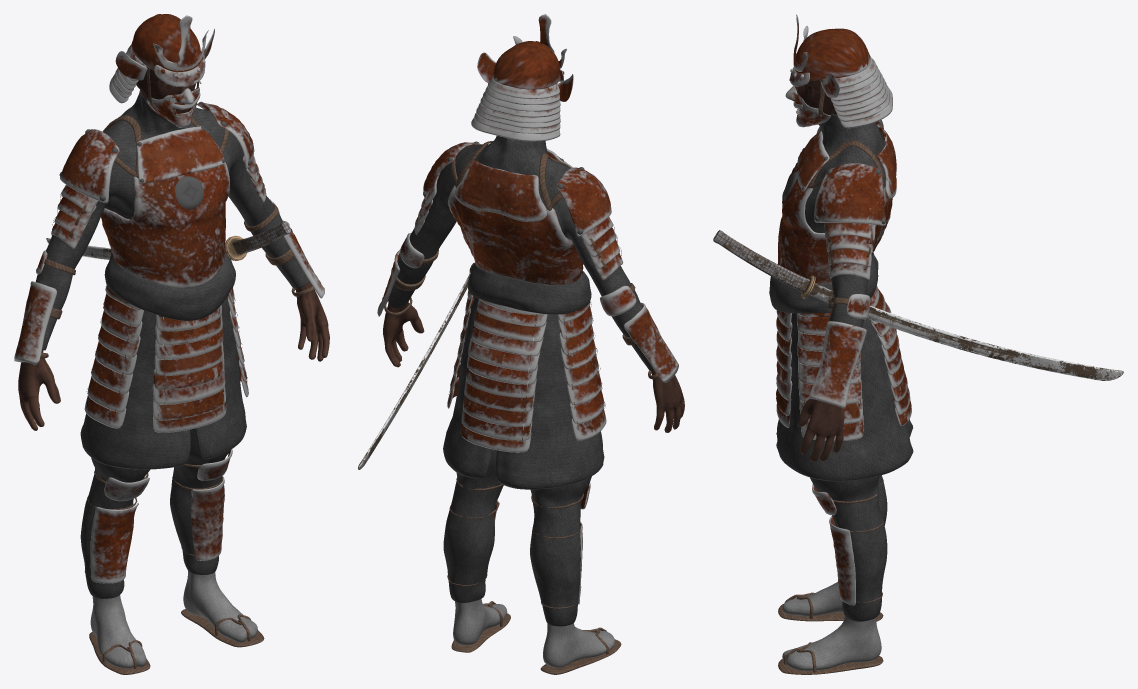
File: samurai.glb
3 views of the same model, side by side, from view 1: azimuth 30°, elevation 25°; view 2: azimuth 150°, elevation 25°; view 3: azimuth 270°, elevation 25° (orthographic). The views are drawn at different scales.
Parts seen in each view (by area): view 1: armor_V2_L:Group2, armor_shogun2:shogun1, sword_6:polySurface1; view 2: armor_V2_L:Group2, armor_shogun2:shogun1, sword_6:polySurface1; view 3: armor_V2_L:Group2, sword_6:polySurface1, armor_shogun2:shogun1.
Part boxes in pixels (x1=…): armor_V2_L:Group2: x1=14, y1=14, x2=324, y2=674; armor_shogun2:shogun1: x1=18, y1=66, x2=329, y2=430; sword_6:polySurface1: x1=46, y1=221, x2=291, y2=260; armor_V2_L:Group2: x1=377, y1=14, x2=678, y2=674; armor_shogun2:shogun1: x1=383, y1=302, x2=684, y2=432; sword_6:polySurface1: x1=358, y1=272, x2=470, y2=469; armor_V2_L:Group2: x1=769, y1=14, x2=913, y2=674; sword_6:polySurface1: x1=713, y1=230, x2=1123, y2=380; armor_shogun2:shogun1: x1=795, y1=80, x2=844, y2=461.
Size of the model in its own units: 28.14 by 56.48 by 33.58.
Materials: 3 (3 with a texture image).
